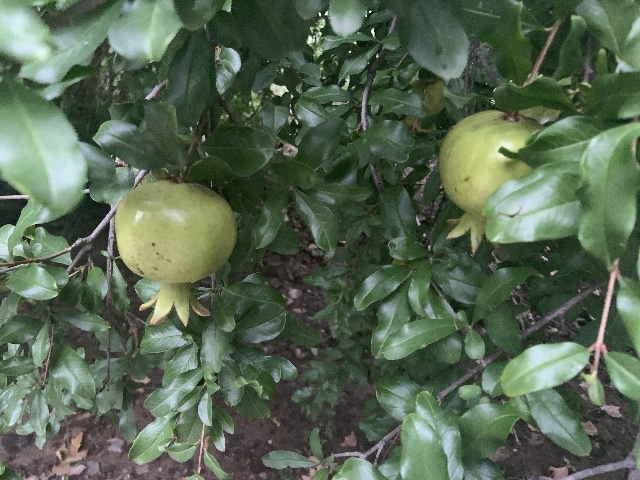mid-growth: (114, 178, 237, 326), (438, 110, 539, 256), (403, 70, 445, 133)
